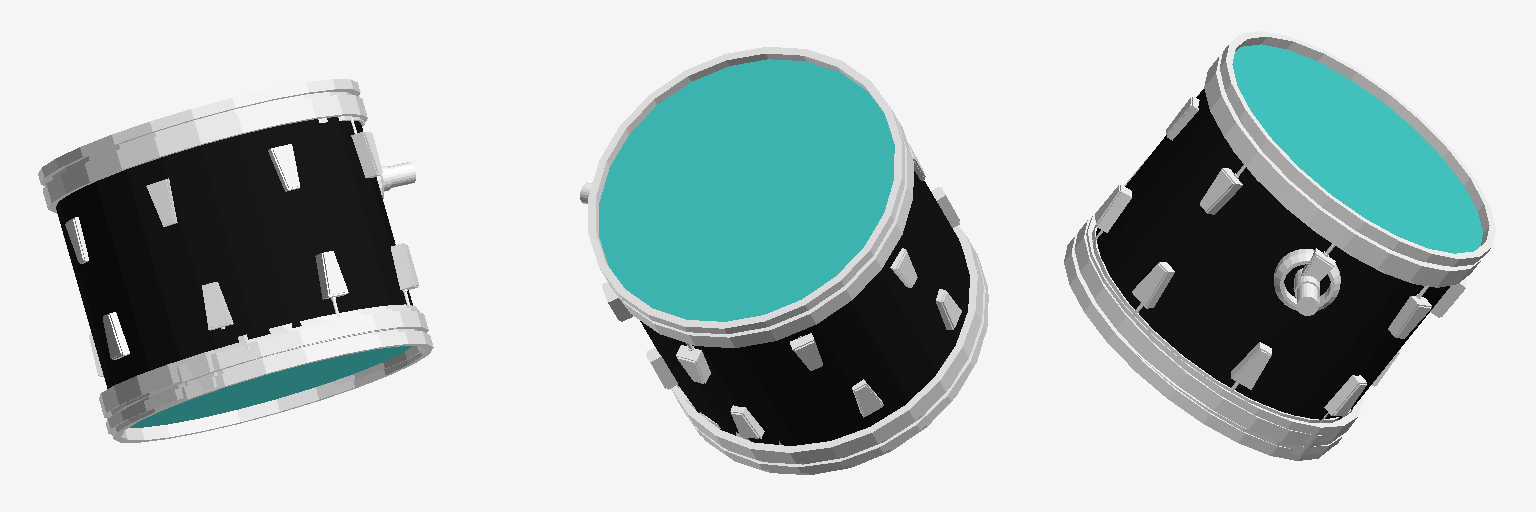
File: Tom2.obj
The picture shows the model from 3 angles: view 1: azimuth 30°, elevation 25°; view 2: azimuth 150°, elevation 25°; view 3: azimuth 270°, elevation 25°; orthographic projection.
Parts seen in each view (by area): view 1: ComponentFBXASC0359_003; view 2: ComponentFBXASC0359_003; view 3: ComponentFBXASC0359_003.
Part boxes in pixels (x1,y1,x2,y2): ComponentFBXASC0359_003: (38,79,433,442); ComponentFBXASC0359_003: (580,47,988,474); ComponentFBXASC0359_003: (1064,31,1495,460).
Bounding box in the file's own units: 195 × 209 × 215.